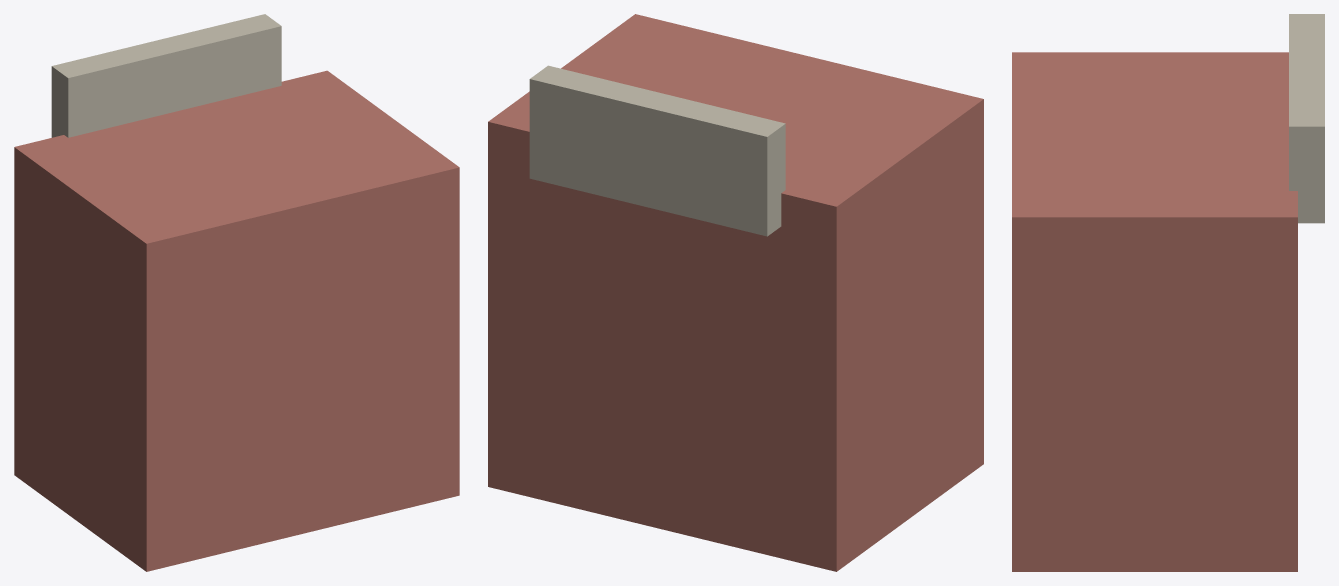
Rendered from iz2_item_purification_tabs.glb.
3 views of the same model, side by side, from view 1: azimuth 30°, elevation 25°; view 2: azimuth 150°, elevation 25°; view 3: azimuth 270°, elevation 25° (orthographic). The views are drawn at different scales.
Parts seen in each view (by area): view 1: body; view 2: body; view 3: body.
Boxes of the visible parts, x1,y1,x2,y2 form: body: (14, 14, 459, 571); body: (488, 14, 983, 571); body: (1012, 14, 1324, 571).
Size of the model in its own units: 0.222 by 0.2626 by 0.1776.
